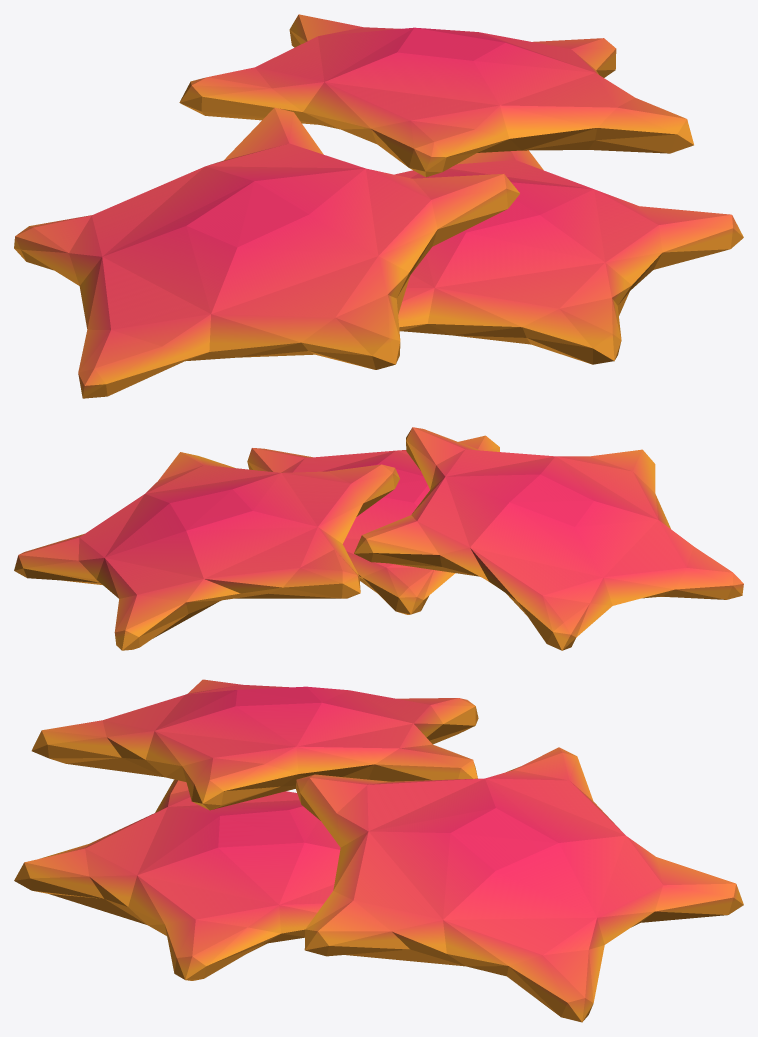
Rendered from SM_Starfish_6.fbx.
3 renders of one model, top to bottom at view 1: azimuth 30°, elevation 25°; view 2: azimuth 150°, elevation 25°; view 3: azimuth 270°, elevation 25°, orthographic. The views are drawn at different scales.
Visible parts, largest first — view 1: Starfish_6; view 2: Starfish_6; view 3: Starfish_6.
Boxes of the visible parts, bbox=[...] form: Starfish_6: bbox=[14, 14, 743, 398]; Starfish_6: bbox=[14, 427, 743, 650]; Starfish_6: bbox=[14, 679, 743, 1022].
Size of the model in its own units: 40.84 by 6.66 by 38.41.
